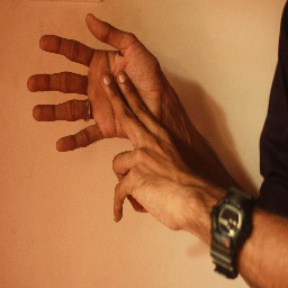N: (24, 10, 206, 212)
